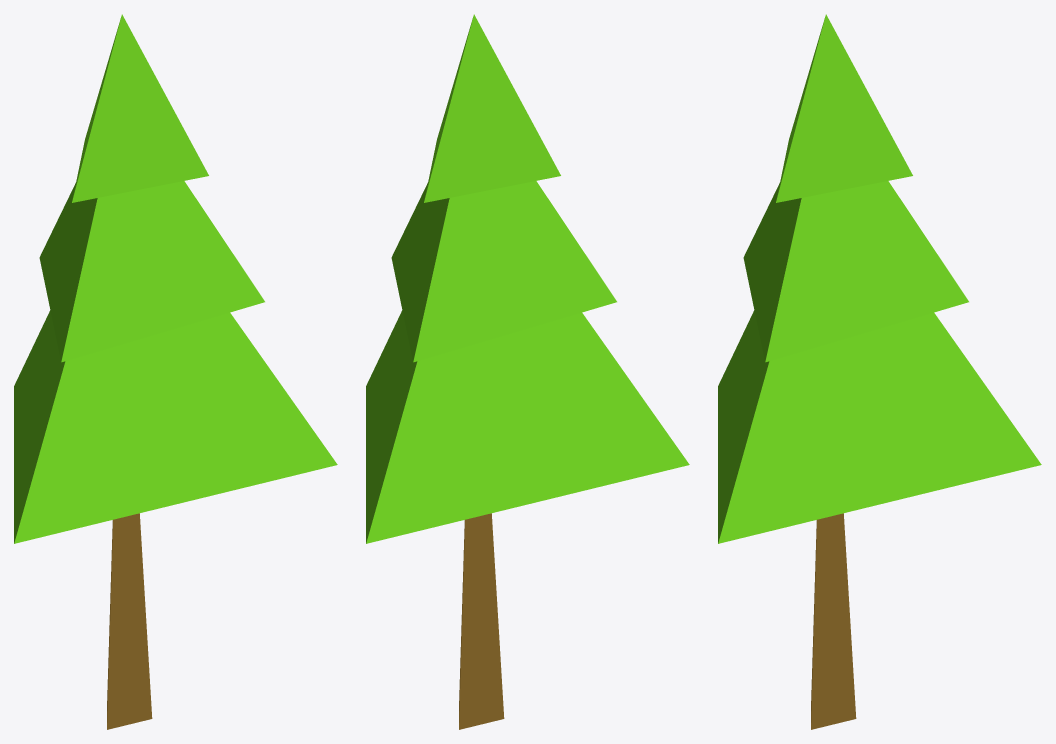
Rendered from tree.glb.
3 views of the same model, side by side, from view 1: azimuth 30°, elevation 25°; view 2: azimuth 150°, elevation 25°; view 3: azimuth 270°, elevation 25° (orthographic).
Visible parts, largest first — view 1: tree; view 2: tree; view 3: tree.
Boxes of the visible parts, x1,y1,x2,y2 form: tree: (14,14,337,729); tree: (366,14,689,729); tree: (718,14,1041,729).
Size of the model in its own units: 3.34 by 6.95 by 2.89.
